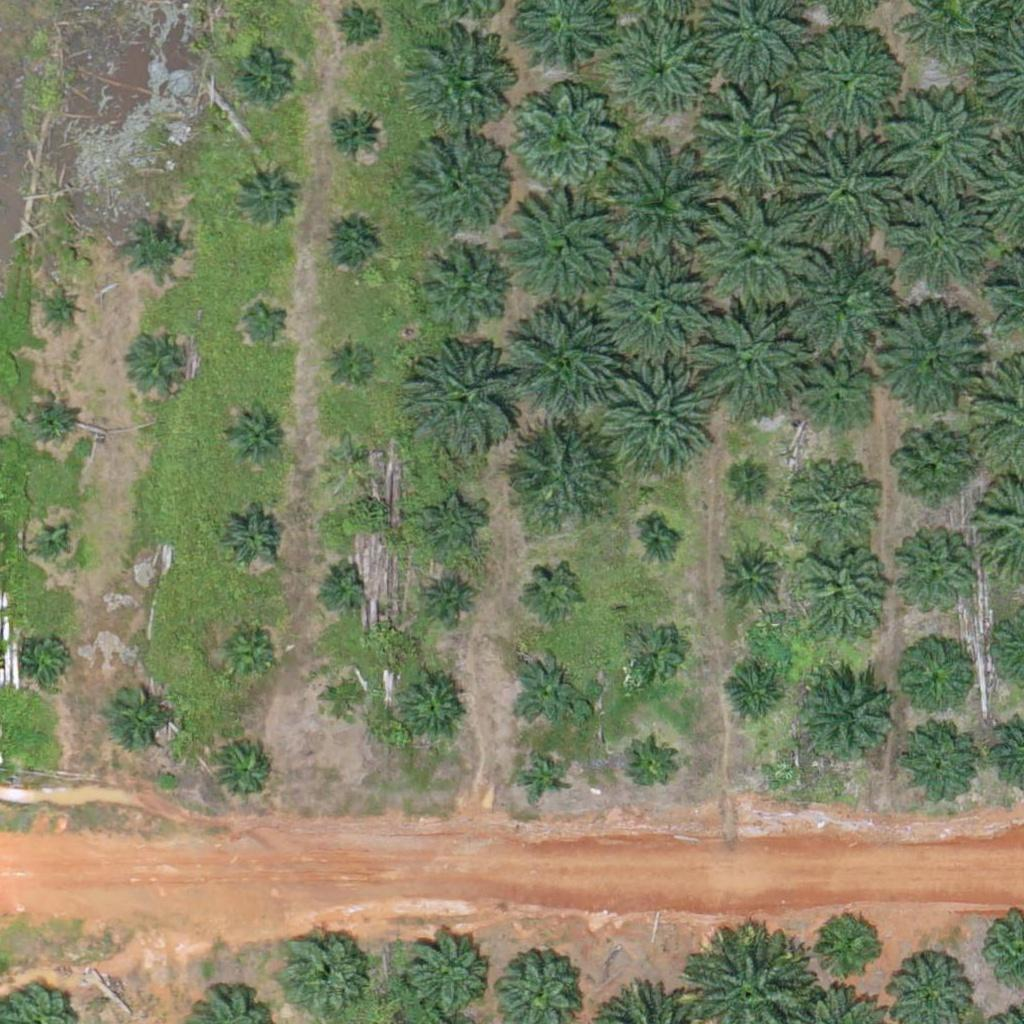Kelapa_Sawit: (603, 143, 728, 269), (401, 337, 526, 463), (598, 251, 711, 365), (508, 196, 621, 310), (506, 81, 619, 195), (871, 308, 984, 421), (789, 136, 902, 249), (775, 237, 888, 350), (596, 360, 709, 473), (509, 302, 622, 415), (500, 417, 613, 530), (886, 88, 999, 201), (689, 297, 801, 411), (403, 32, 515, 146), (700, 195, 812, 308), (695, 85, 807, 198), (794, 667, 894, 768), (797, 33, 897, 134), (409, 130, 509, 231), (613, 20, 713, 120), (278, 929, 366, 1017), (789, 458, 877, 546), (797, 552, 885, 640), (419, 247, 507, 335), (404, 932, 491, 1020), (894, 202, 981, 290), (105, 679, 180, 755), (897, 428, 972, 504), (899, 543, 974, 619), (902, 725, 977, 801), (795, 361, 870, 437), (394, 669, 469, 744), (510, 651, 585, 726), (135, 330, 198, 393), (124, 214, 187, 277), (233, 53, 296, 116), (222, 402, 285, 465), (222, 507, 285, 570), (899, 648, 962, 711), (215, 739, 278, 802), (723, 666, 786, 729), (820, 913, 883, 976), (618, 621, 681, 684), (215, 621, 278, 684), (323, 103, 386, 166), (234, 164, 296, 227), (422, 494, 484, 557), (526, 563, 588, 626), (320, 215, 382, 278), (624, 743, 674, 794), (428, 572, 478, 623), (517, 752, 567, 803), (326, 332, 376, 383), (325, 429, 375, 480), (315, 558, 365, 609), (241, 294, 291, 345), (25, 633, 75, 683), (726, 551, 776, 601), (319, 674, 369, 724), (27, 392, 77, 442), (335, 2, 385, 52), (734, 462, 772, 500), (44, 290, 82, 328), (34, 528, 72, 566), (639, 524, 676, 562)
